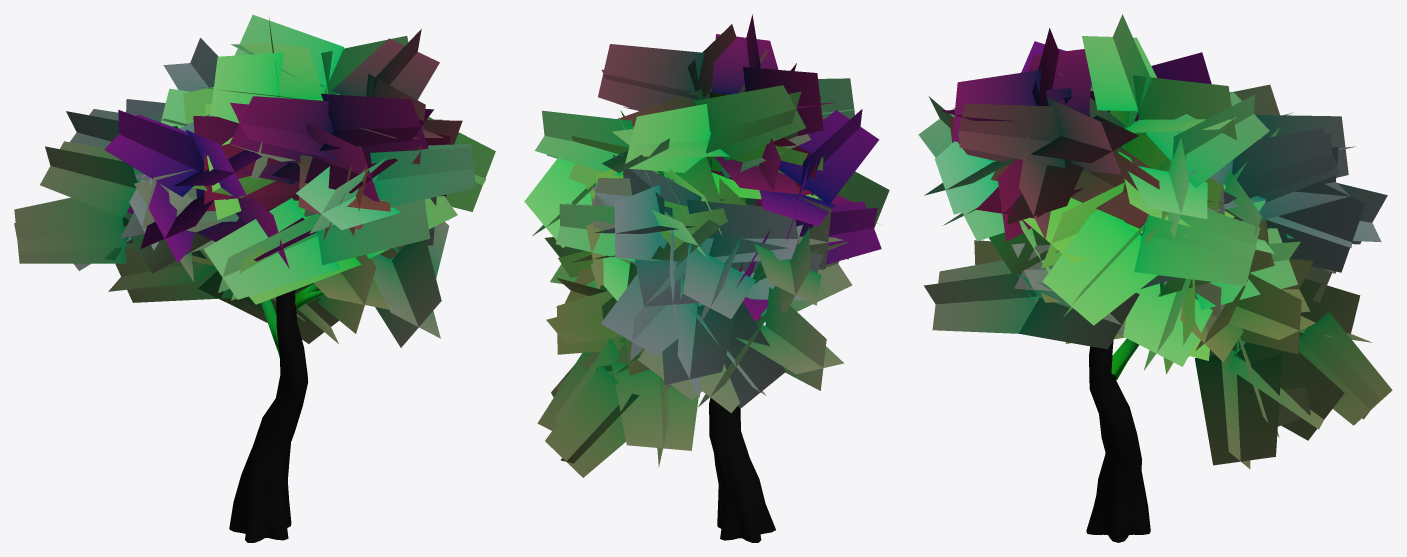
The model's file is M_Realistic12_2.fbx.
3 views of the same model, side by side, from view 1: azimuth 30°, elevation 25°; view 2: azimuth 150°, elevation 25°; view 3: azimuth 270°, elevation 25° (orthographic). The views are drawn at different scales.
Parts seen in each view (by area): view 1: Tree_2; view 2: Tree_2; view 3: Tree_2.
Part boxes in pixels (x1,y1,x2,y2): Tree_2: (14, 15, 495, 542); Tree_2: (524, 14, 889, 542); Tree_2: (918, 14, 1392, 542).
Size of the model in its own units: 1279 by 1511 by 1317.
